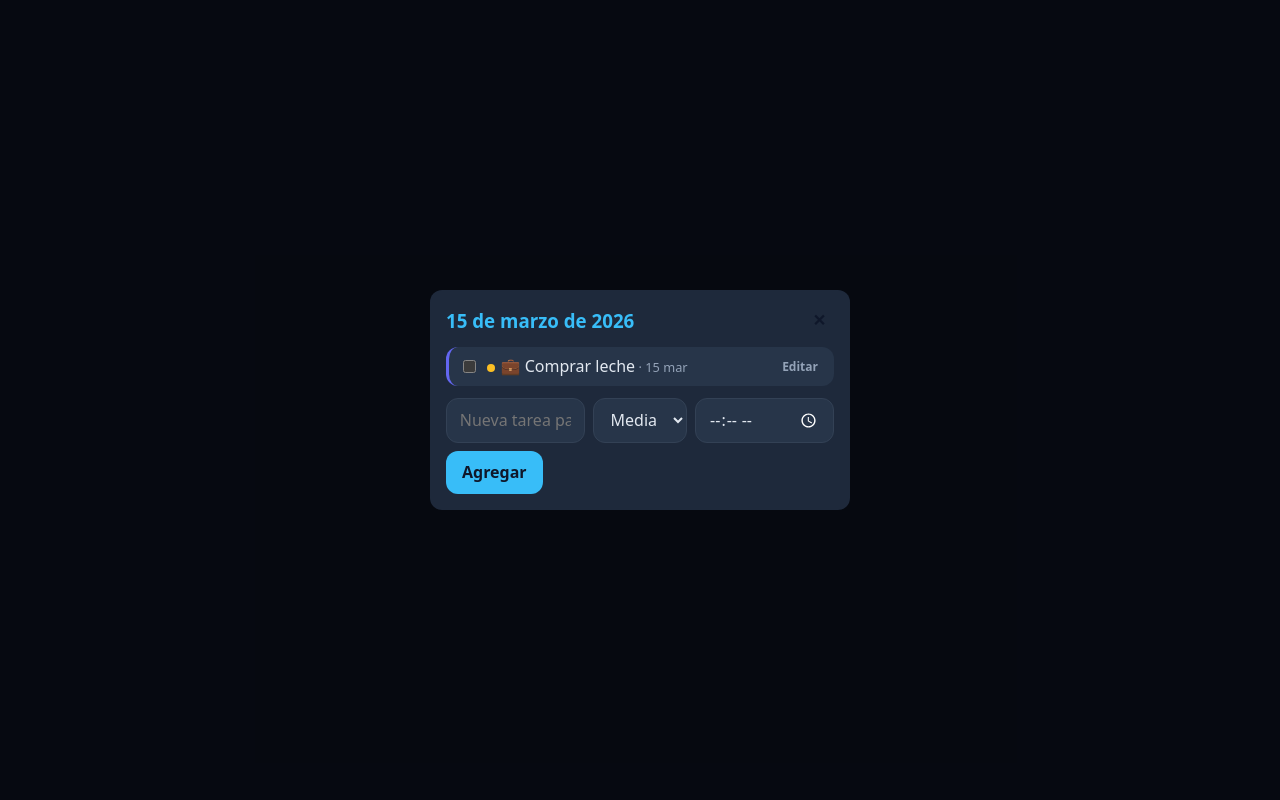
Test case: DayDetailModal › cancels editing without saving
The width and height of the screenshot is (1280, 800).
Click the button "Editar".
click(800, 366)  # box [776,354,824,378]
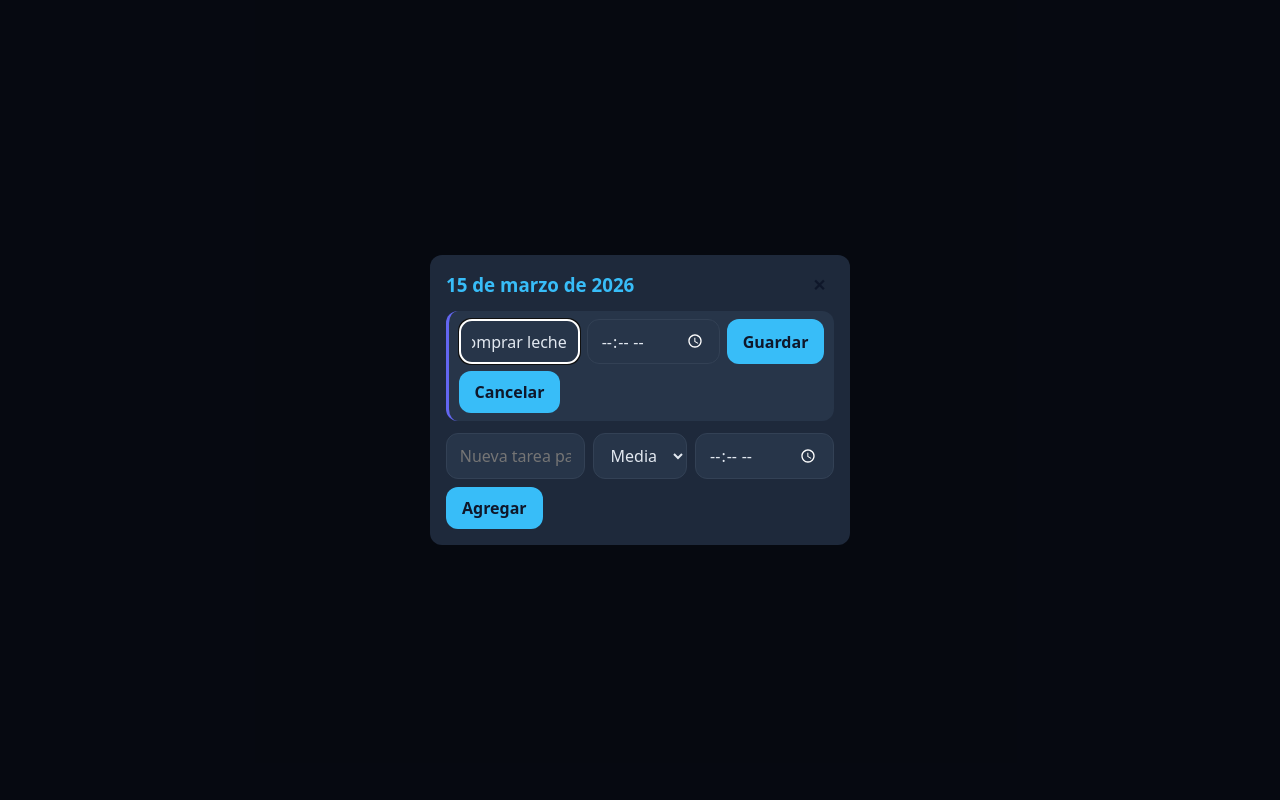
Click the button "Cancelar".
click(510, 392)  # box [459,371,560,413]
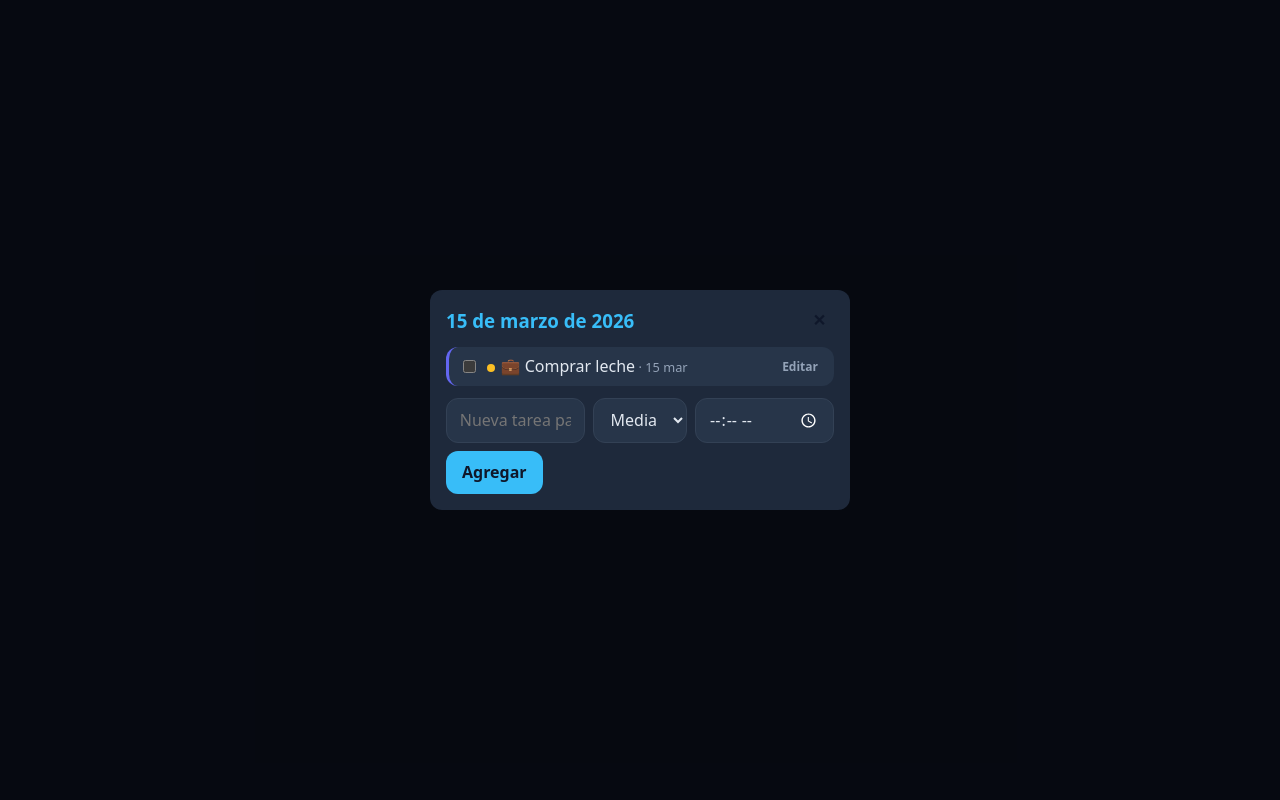
Expected: the text "💼 Comprar leche · 15 mar" is shown, [487,355,688,377]
